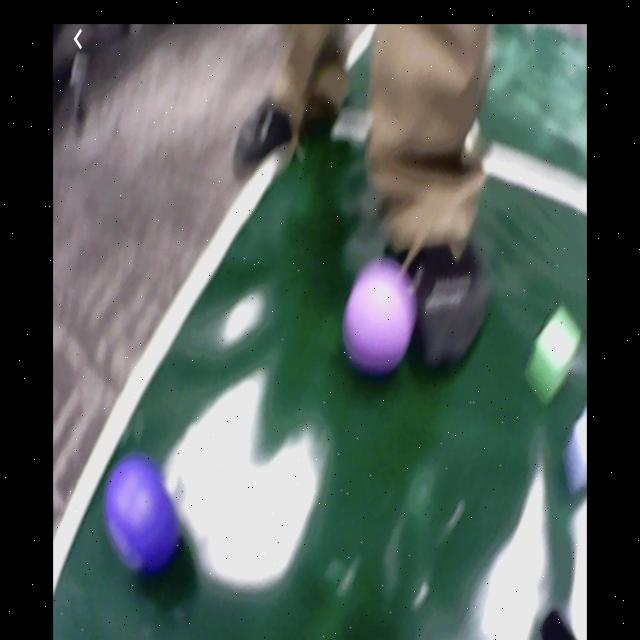ball: (107, 456, 179, 570), (345, 264, 412, 371)
